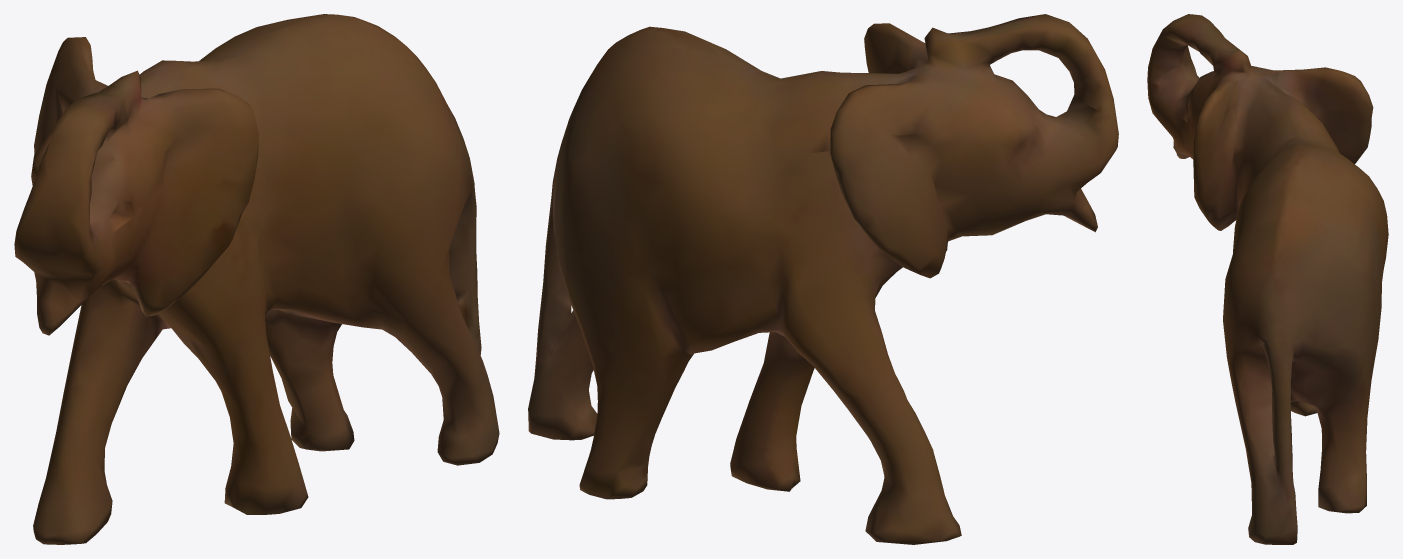
Rendered from carved_wooden_elephant.glb.
3 renders of one model, left to right at view 1: azimuth 30°, elevation 25°; view 2: azimuth 150°, elevation 25°; view 3: azimuth 270°, elevation 25°, orthographic. The views are drawn at different scales.
Visible parts, largest first — view 1: carved_wooden_elephant; view 2: carved_wooden_elephant; view 3: carved_wooden_elephant.
Part boxes in pixels (x1=…): carved_wooden_elephant: x1=14, y1=14, x2=499, y2=544; carved_wooden_elephant: x1=528, y1=14, x2=1118, y2=544; carved_wooden_elephant: x1=1147, y1=14, x2=1388, y2=544.
Size of the model in its own units: 0.1092 by 0.0961 by 0.0576.
Materials: 1 (1 with a texture image).
